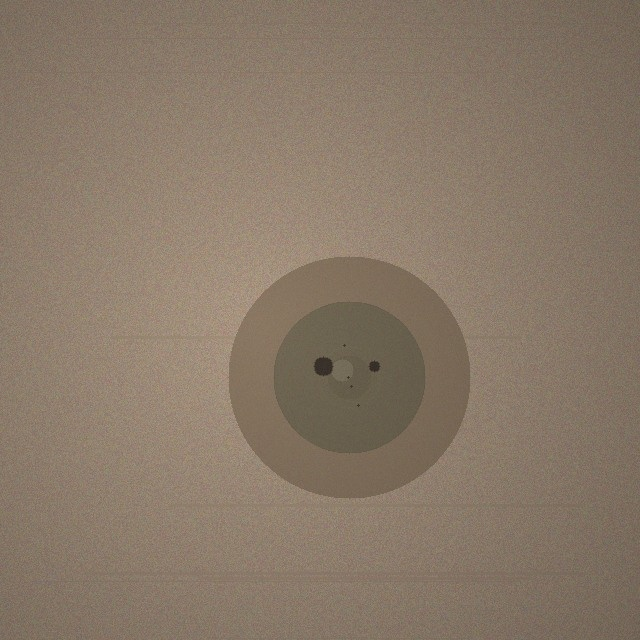shrinkage: (228, 256, 470, 498)
